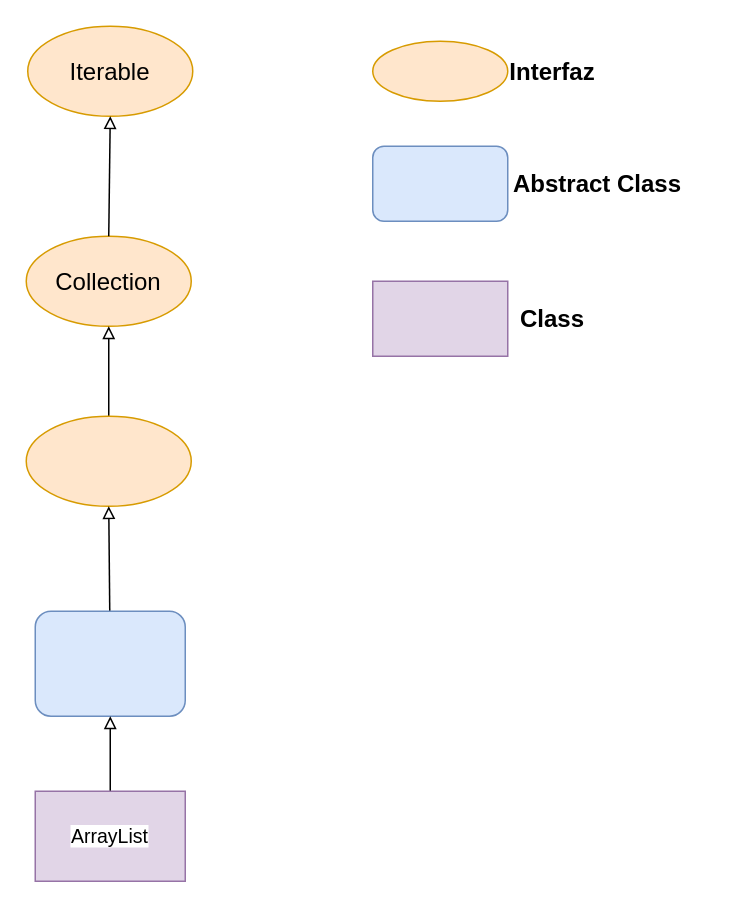
This 729x908 diagram has some shape labels left out. The shapes that lost their labels are listed below. From the top down, each one's centre as x and y in pixels, then its label:
(x=108, y=460): List
(x=109, y=663): ABSTRACTLIST
